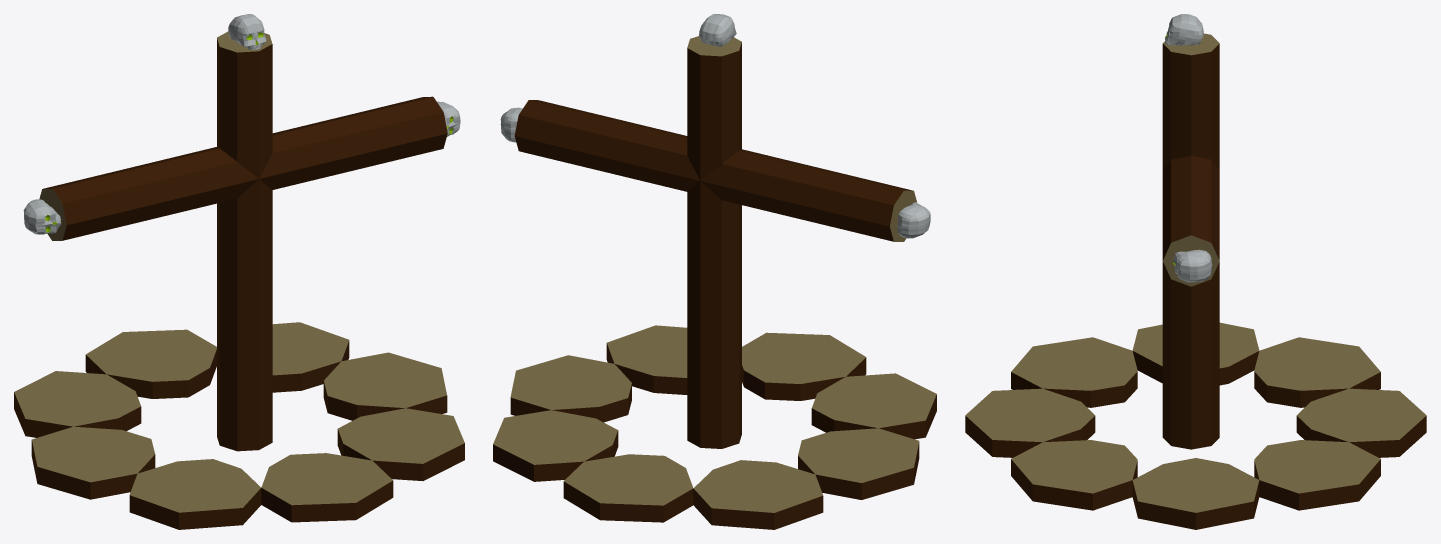
Rendered from Wtotem.fbx.
The picture shows the model from 3 angles, left to right: view 1: azimuth 30°, elevation 25°; view 2: azimuth 150°, elevation 25°; view 3: azimuth 270°, elevation 25°; orthographic projection.
Parts seen in each view (by area): view 1: Cylinder.003, Cube.009; view 2: Cylinder.003, Cube.009; view 3: Cylinder.003, Cube.009.
Boxes of the visible parts, x1=… form: Cylinder.003: x1=14, y1=322, x2=464, y2=529; Cube.009: x1=23, y1=14, x2=460, y2=451; Cylinder.003: x1=493, y1=325, x2=936, y2=529; Cube.009: x1=500, y1=14, x2=930, y2=448; Cylinder.003: x1=965, y1=322, x2=1426, y2=529; Cube.009: x1=1162, y1=14, x2=1219, y2=449.
Bounding box in the file's own units: 318 × 300 × 299.
